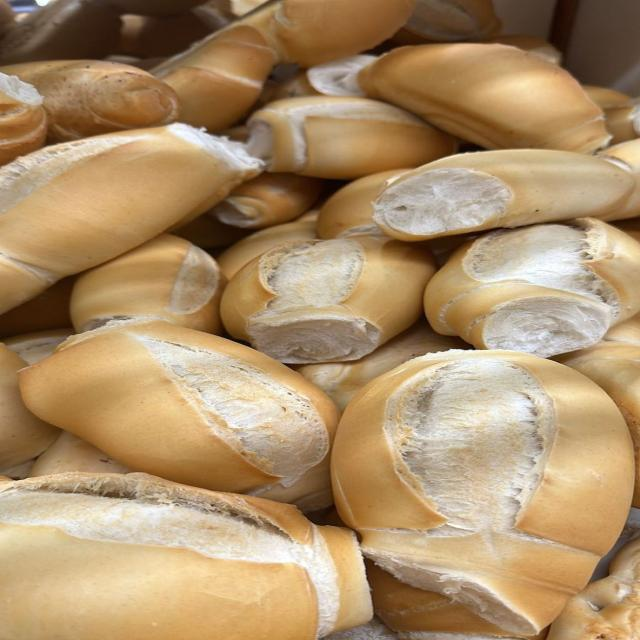bread: (332, 350, 633, 635), (0, 473, 372, 639), (20, 321, 337, 496), (0, 124, 261, 312), (152, 0, 414, 131), (425, 219, 639, 357), (221, 236, 435, 364), (359, 44, 610, 153), (373, 149, 636, 241), (247, 96, 457, 179), (296, 320, 470, 411), (71, 234, 226, 333), (0, 61, 179, 142), (555, 337, 639, 507), (367, 563, 546, 639), (152, 23, 276, 132), (249, 0, 415, 67), (548, 539, 639, 639), (0, 343, 59, 475), (0, 0, 121, 64), (318, 169, 411, 239), (210, 173, 324, 229), (5, 431, 129, 479), (218, 221, 317, 280), (119, 13, 227, 58), (392, 0, 501, 44), (28, 431, 131, 477), (0, 277, 74, 338), (0, 71, 46, 165), (291, 55, 376, 97), (592, 508, 639, 581), (599, 138, 639, 220), (173, 213, 247, 249), (3, 327, 73, 365), (257, 70, 323, 107), (488, 34, 562, 65), (101, 0, 206, 16), (327, 618, 398, 639), (604, 102, 639, 144), (191, 0, 235, 33), (599, 138, 639, 173), (583, 86, 632, 108), (603, 316, 639, 342), (0, 458, 35, 479), (227, 0, 266, 17), (0, 0, 15, 35)
